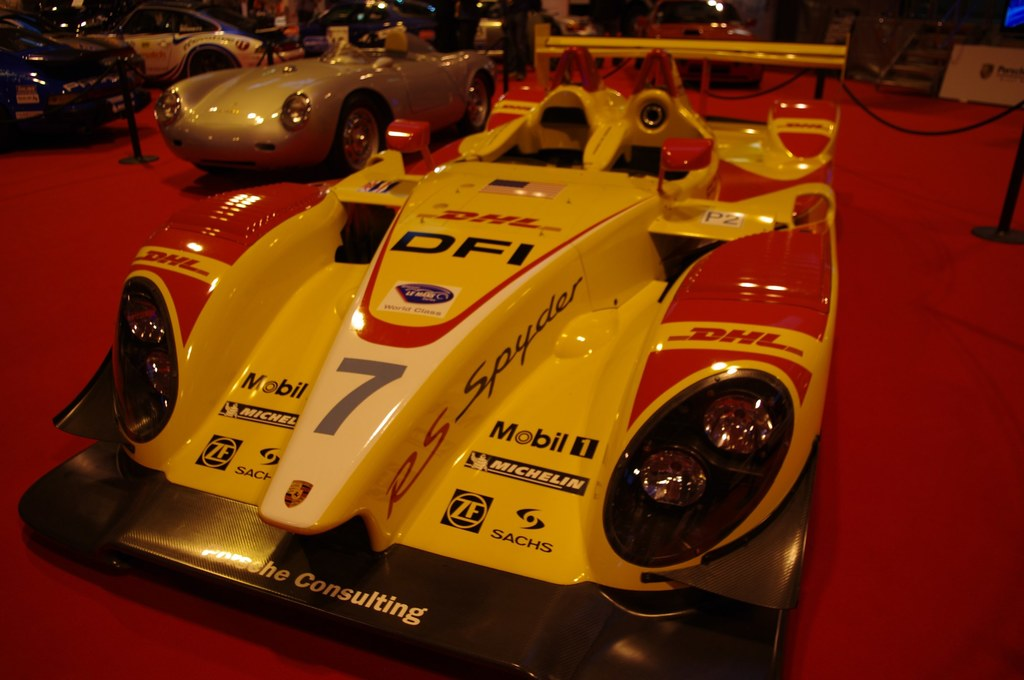Car: (19, 77, 845, 679), (156, 24, 508, 161), (54, 0, 264, 96), (0, 2, 150, 127)
